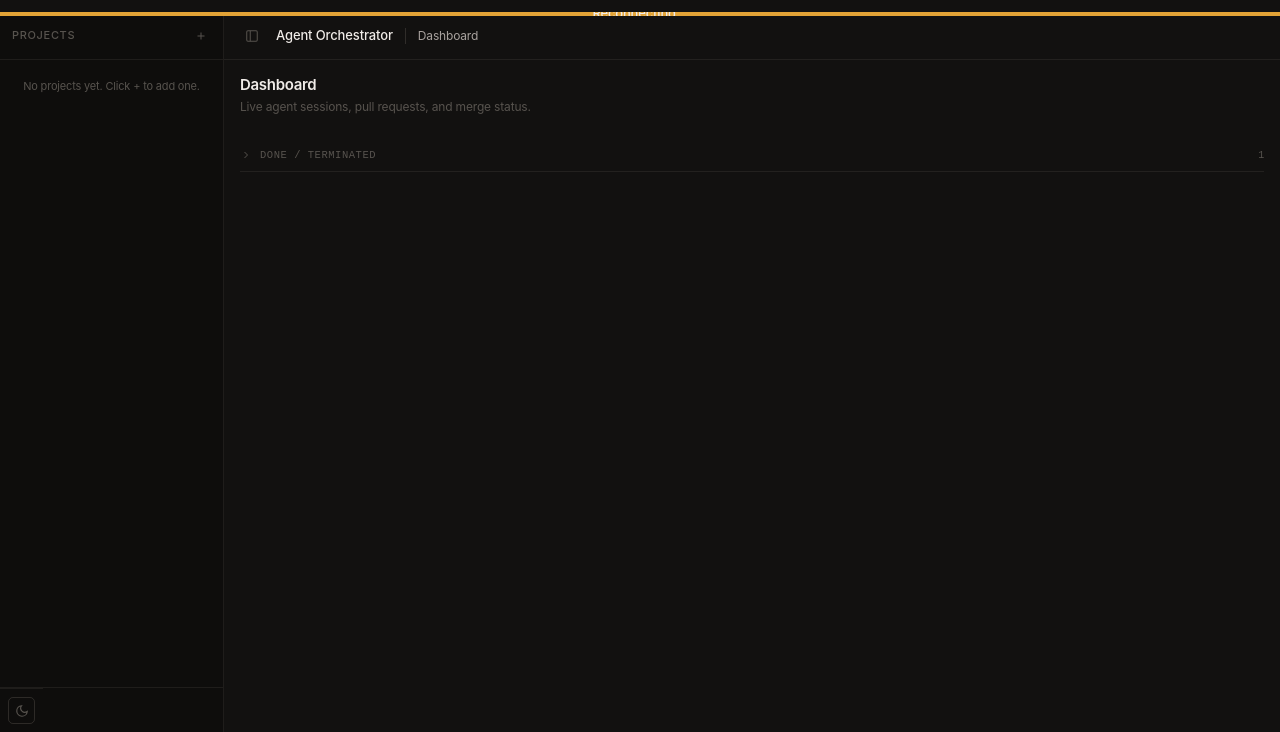
it: Dashboard done bar › expands to show session cards when clicked
The image size is (1280, 732).
Click the button "Done / Terminated 1".
click(318, 154)  # box [240,140,1264,172]
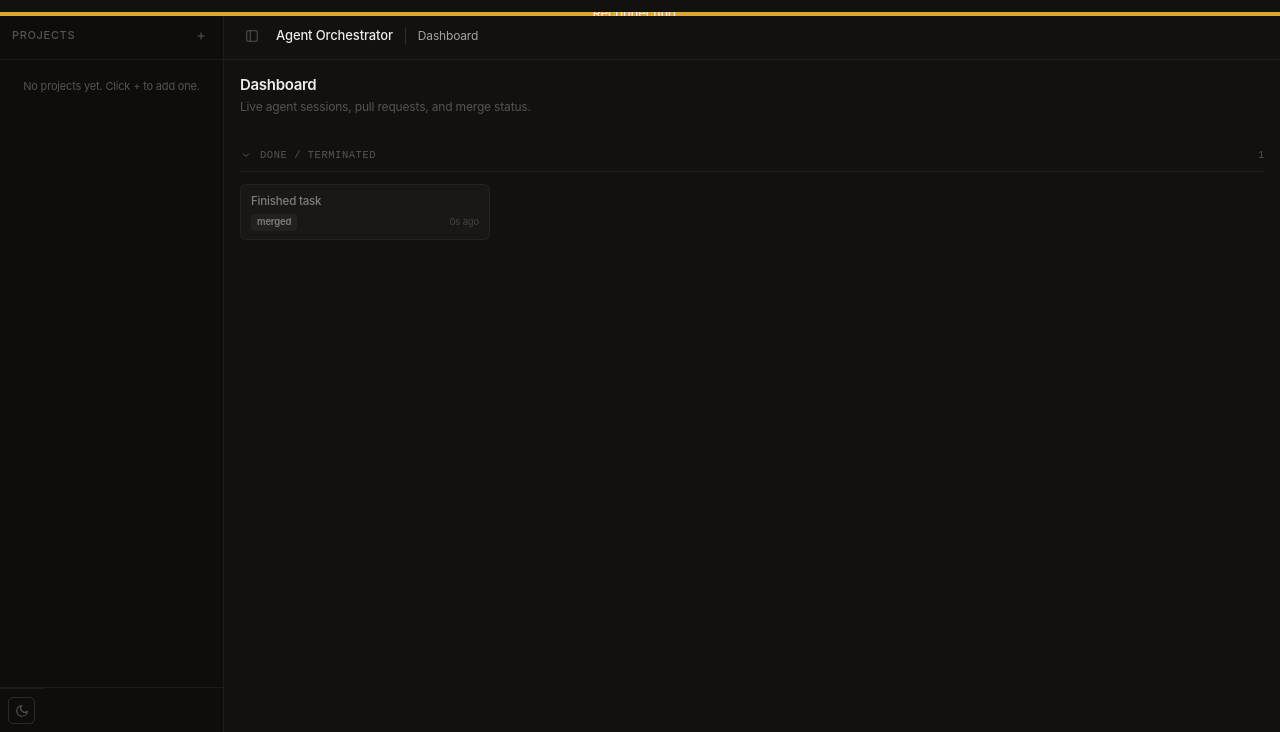
Result: the element with class "done-bar__cards" is shown at [240,184,490,240]
